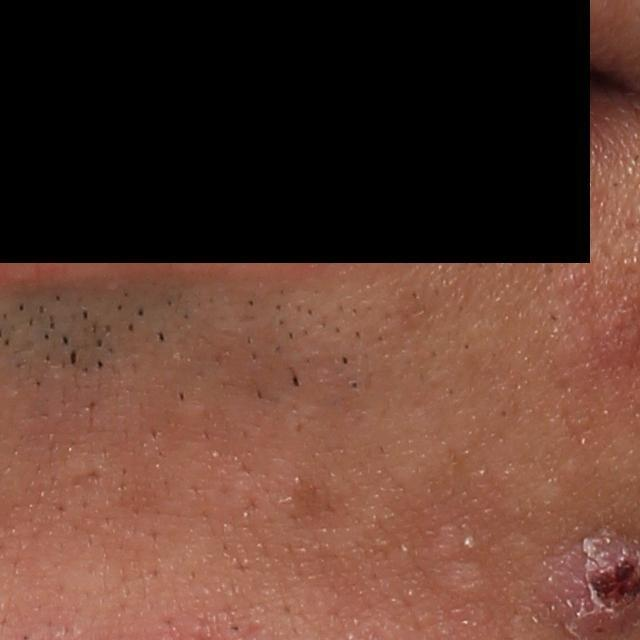atrophic_scar: (68, 466, 102, 493)
hypertrophic_scar: (432, 523, 499, 606)
